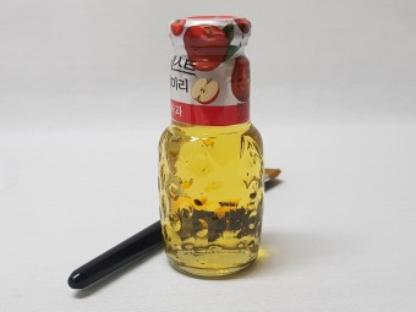Glass Bottle: (156, 14, 263, 280)
